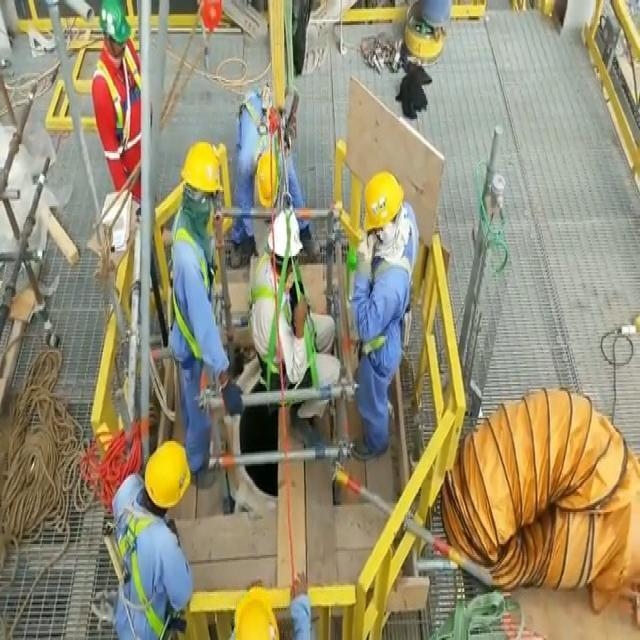Person: (113, 443, 197, 639), (85, 0, 138, 192)
